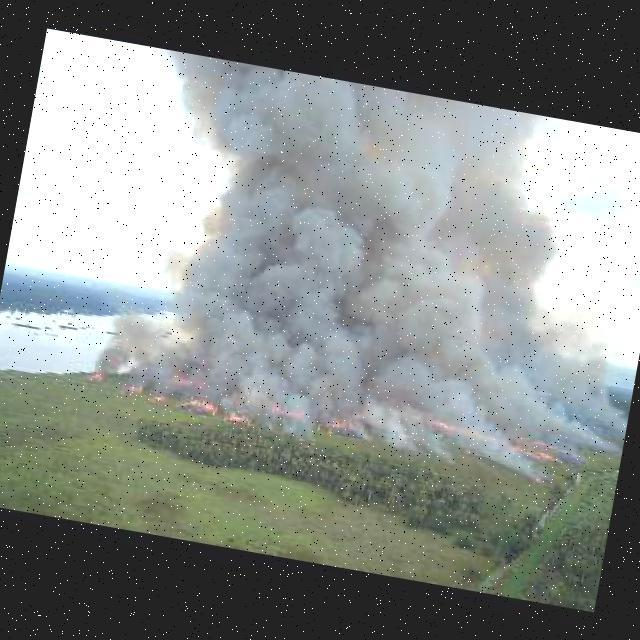Fire: (433, 416, 566, 455), (318, 414, 361, 441), (180, 394, 219, 420), (271, 401, 309, 419), (221, 409, 253, 428), (171, 373, 200, 388), (149, 390, 169, 405), (124, 381, 142, 396), (461, 445, 480, 458), (90, 372, 106, 384), (529, 386, 548, 395), (532, 473, 543, 483), (354, 411, 365, 417)
Smoke: (91, 43, 640, 454)
